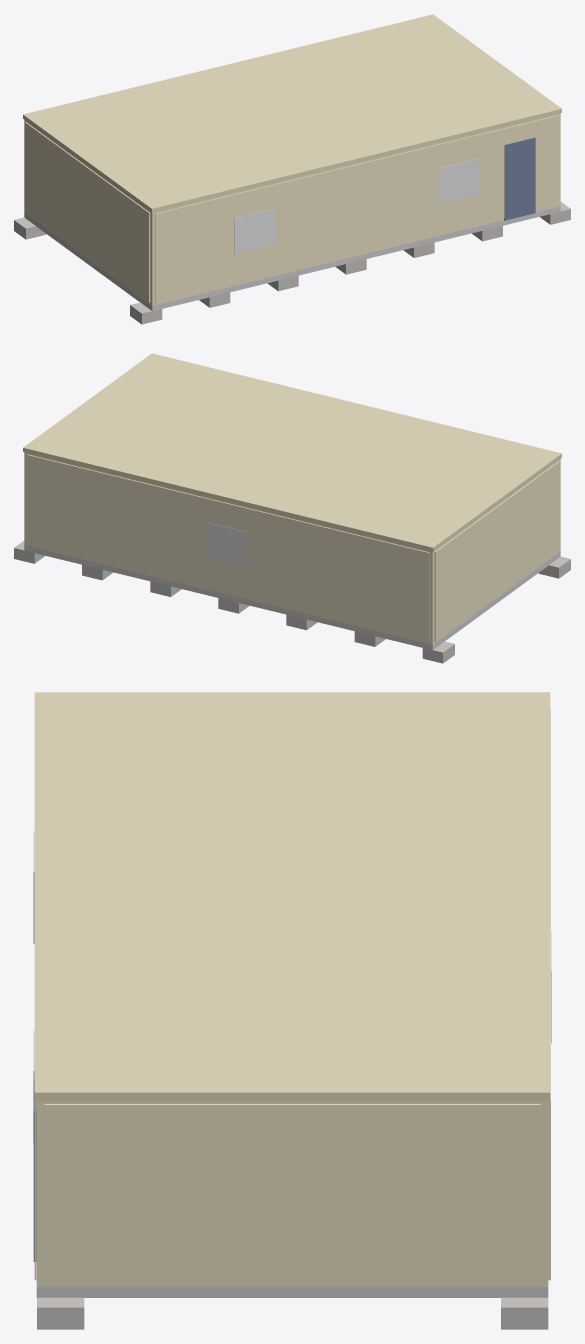
The model's file is Studio-40-Base-RiceYellow-LOD3.glb.
3 renders of one model, top to bottom at view 1: azimuth 30°, elevation 25°; view 2: azimuth 150°, elevation 25°; view 3: azimuth 270°, elevation 25°, orthographic. The views are drawn at different scales.
Parts seen in each view (by area): view 1: RoofMain, ExteriorPanelsStandard, BaseFrame, WindowsStandard, ExteriorShell, FoundationBlocks, EntryDoor; view 2: RoofMain, ExteriorPanelsStandard, BaseFrame, ExteriorShell, FoundationBlocks, WindowsStandard; view 3: RoofMain, ExteriorPanelsStandard, ExteriorShell, BaseFrame, FoundationBlocks.
Part boxes in pixels (box(x1,y1,x2,y2)): RoofMain: box(23, 14, 561, 212); ExteriorPanelsStandard: box(25, 115, 557, 303); BaseFrame: box(24, 206, 560, 311); WindowsStandard: box(234, 158, 479, 254); ExteriorShell: box(24, 113, 560, 305); FoundationBlocks: box(14, 201, 570, 324); EntryDoor: box(504, 137, 535, 220); RoofMain: box(23, 353, 561, 551); ExteriorPanelsStandard: box(27, 454, 559, 642); BaseFrame: box(24, 545, 560, 650); ExteriorShell: box(24, 452, 560, 644); FoundationBlocks: box(14, 541, 570, 663); WindowsStandard: box(207, 522, 248, 567); RoofMain: box(34, 692, 550, 1100); ExteriorPanelsStandard: box(34, 708, 550, 1284); ExteriorShell: box(36, 1101, 548, 1287); BaseFrame: box(36, 1287, 548, 1297); FoundationBlocks: box(37, 1297, 548, 1329).
Size of the model in its own units: 12.49 by 3.17 by 6.53.
